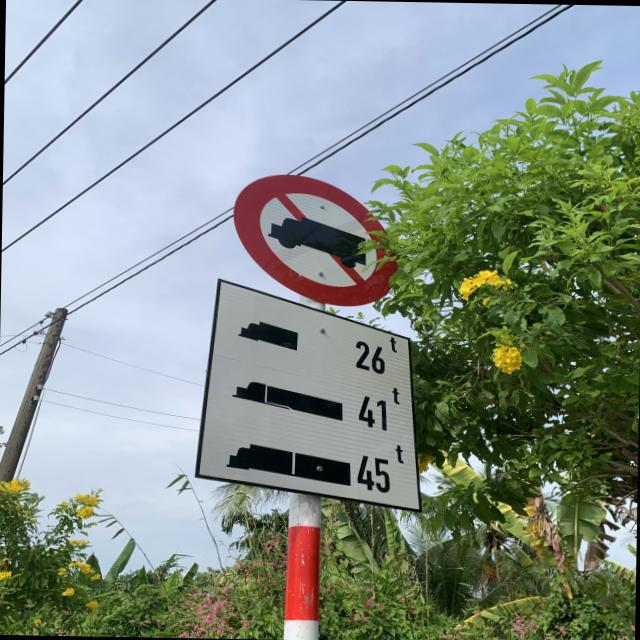Cam_Xe_Tai: (236, 172, 395, 308)
